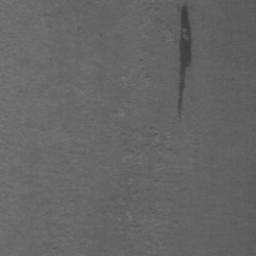Iron scale compression: (178, 4, 192, 119)
